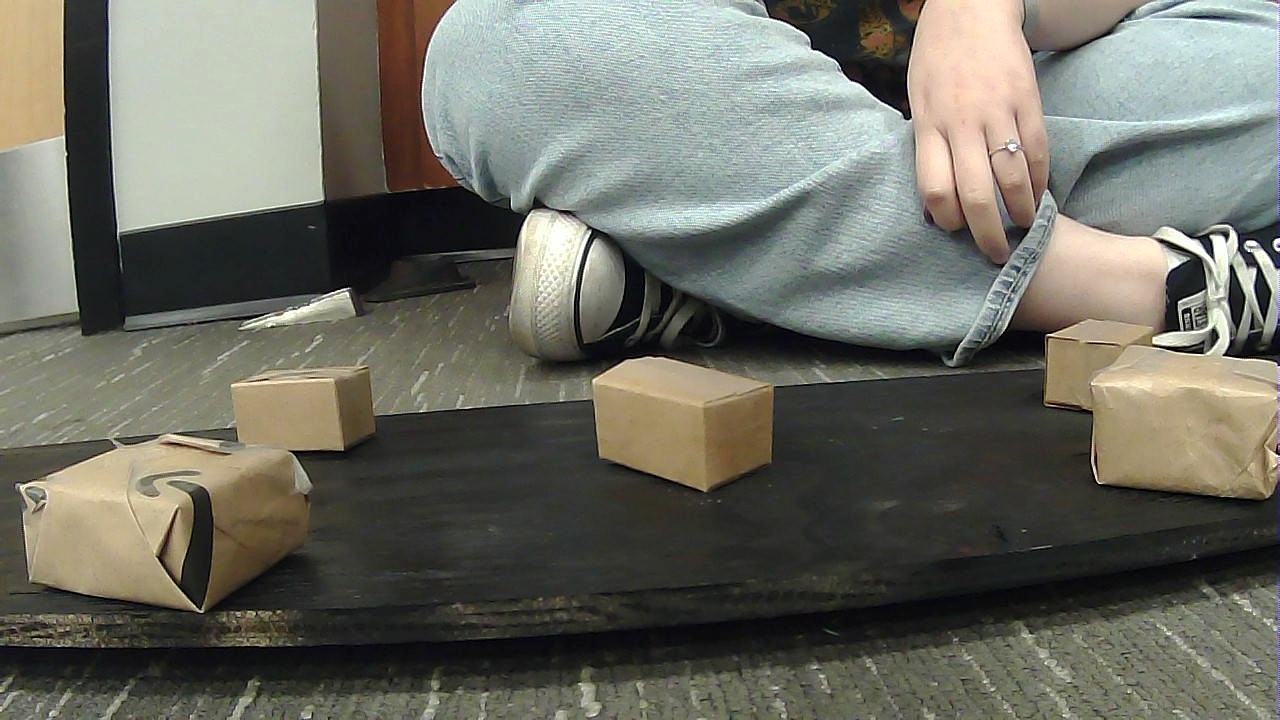package: (9, 436, 356, 625), (572, 336, 809, 506), (1076, 331, 1276, 513), (218, 354, 413, 463), (1039, 300, 1179, 424)
